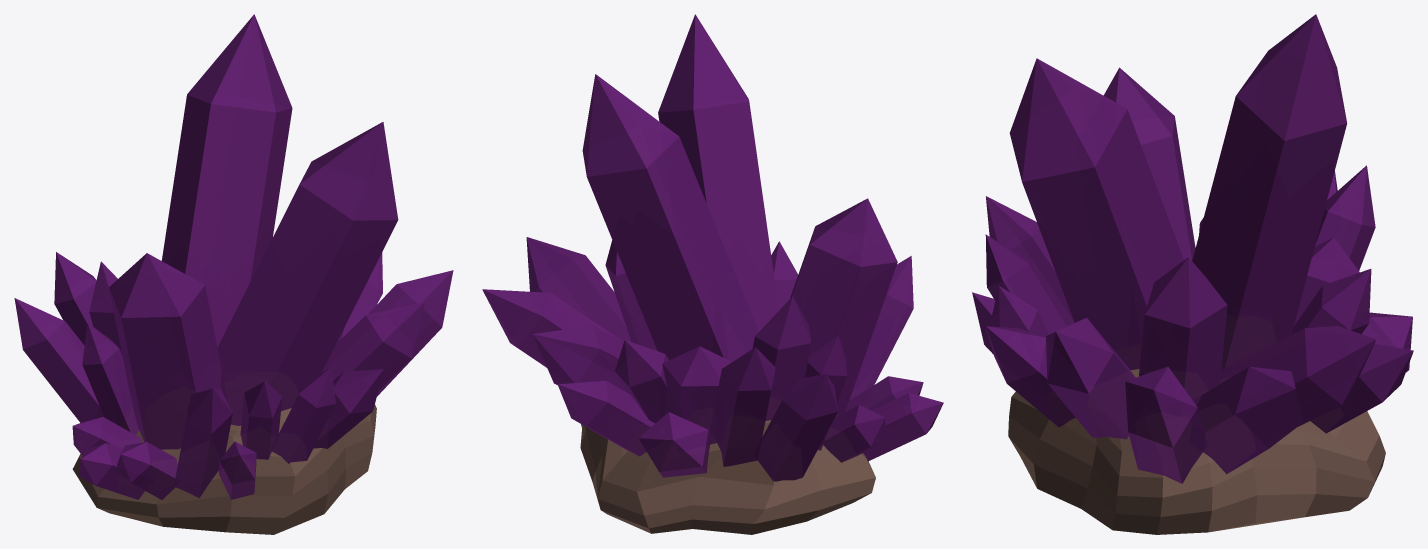
File: Crystal_Cluster_B.fbx
The picture shows the model from 3 angles, left to right: view 1: azimuth 30°, elevation 25°; view 2: azimuth 150°, elevation 25°; view 3: azimuth 270°, elevation 25°; orthographic projection. The views are drawn at different scales.
Visible parts, largest first — view 1: Crystal15, Crystal13, Crystal14, Rock_A1, Crystal3, pCylinder69, Crystal10, Crystal7, Crystal6, pCylinder71, Crystal4, Crystal17 (+7 smaller); view 2: Crystal13, Rock_A1, Crystal15, Crystal14, Crystal3, Crystal11, pCylinder71, Crystal1, Crystal19, Crystal18, Crystal2, Crystal16 (+9 smaller); view 3: Crystal13, Crystal15, Rock_A1, pCylinder72, Crystal18, pCylinder69, Crystal1, pCylinder71, Crystal14, Crystal4, Crystal11, Crystal19 (+7 smaller).
Boxes of the visible parts, x1,y1,x2,y2 form: Crystal15: [217, 122, 398, 425]; Crystal13: [161, 14, 292, 347]; Crystal14: [109, 253, 221, 449]; Rock_A1: [72, 404, 376, 534]; Crystal3: [14, 298, 103, 422]; pCylinder69: [322, 302, 424, 389]; Crystal10: [175, 388, 232, 498]; Crystal7: [82, 323, 139, 434]; Crystal6: [272, 366, 335, 463]; pCylinder71: [368, 270, 453, 396]; Crystal4: [313, 369, 383, 448]; Crystal17: [240, 381, 282, 459]; Crystal13: [582, 74, 758, 361]; Rock_A1: [580, 420, 875, 534]; Crystal15: [658, 14, 778, 331]; Crystal14: [790, 198, 897, 417]; Crystal3: [757, 374, 838, 481]; Crystal11: [715, 347, 775, 466]; pCylinder71: [526, 237, 631, 341]; Crystal1: [532, 325, 627, 392]; Crystal19: [557, 380, 654, 456]; Crystal18: [482, 289, 621, 367]; Crystal2: [662, 346, 731, 444]; Crystal16: [752, 296, 811, 420]; Crystal13: [1192, 14, 1347, 368]; Crystal15: [1009, 58, 1183, 369]; Rock_A1: [1008, 368, 1385, 534]; pCylinder72: [1139, 257, 1227, 405]; Crystal18: [1196, 366, 1303, 474]; pCylinder69: [1046, 317, 1135, 439]; Crystal1: [1220, 326, 1376, 426]; pCylinder71: [1125, 366, 1204, 483]; Crystal14: [1103, 67, 1195, 260]; Crystal4: [986, 326, 1075, 427]; Crystal11: [1315, 165, 1375, 270]; Crystal19: [1310, 343, 1413, 433].
Size of the model in its own units: 2.99 by 2.38 by 3.05.
